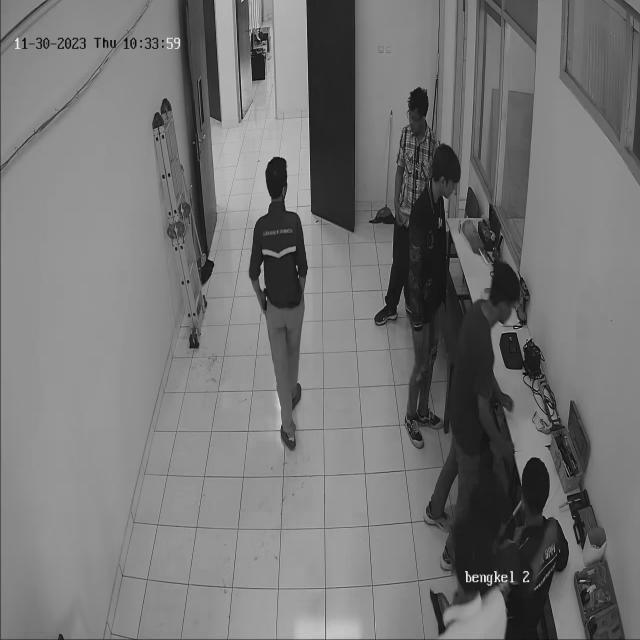person: (248, 153, 311, 452), (395, 68, 438, 455)
